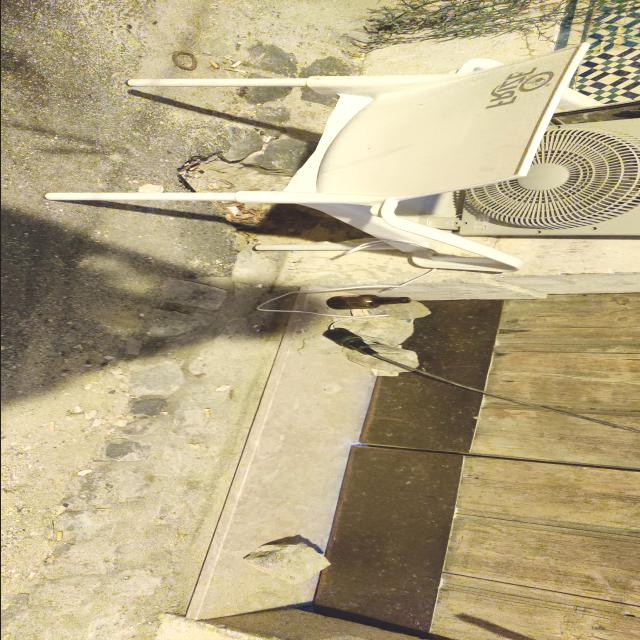Cigarette: (208, 60, 219, 69), (224, 66, 239, 72), (185, 165, 199, 171), (54, 532, 62, 541), (48, 421, 55, 431), (204, 408, 210, 418)
Glass bottle: (326, 295, 411, 310)
